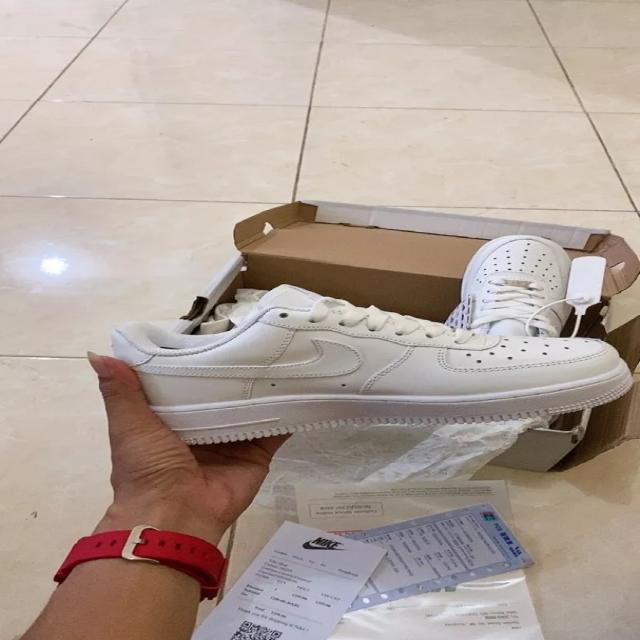nike original air force: (108, 285, 630, 444), (456, 235, 580, 338)
